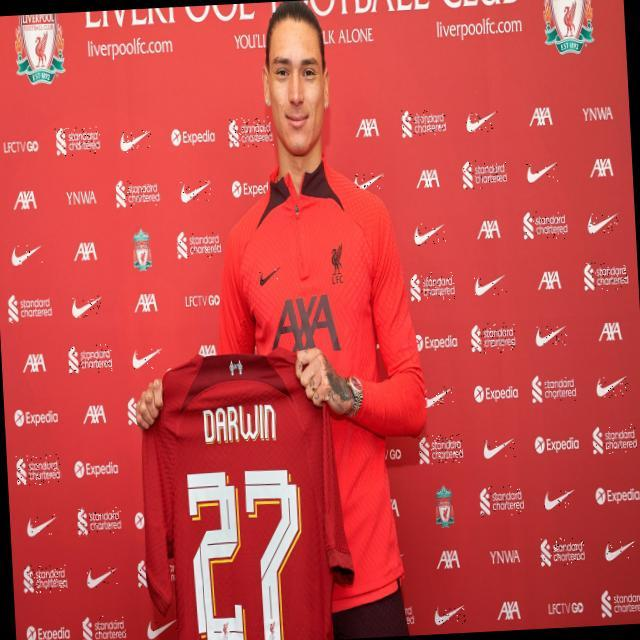Nike: (120, 129, 152, 154), (596, 376, 629, 400), (180, 180, 212, 204), (413, 223, 446, 246), (474, 274, 507, 297), (466, 110, 499, 133), (27, 515, 58, 539), (132, 347, 164, 370), (146, 618, 179, 640), (483, 438, 516, 460), (526, 161, 559, 183), (535, 325, 568, 347), (543, 489, 576, 511), (604, 540, 637, 562), (587, 212, 620, 234), (87, 567, 118, 590), (11, 244, 43, 266), (434, 604, 466, 626), (72, 295, 102, 318), (425, 387, 455, 408), (354, 173, 385, 191), (259, 266, 281, 287)
Standard Chartered: (228, 117, 274, 149), (479, 485, 525, 517), (470, 322, 516, 354), (462, 158, 508, 190), (531, 373, 577, 405), (17, 454, 62, 486), (8, 292, 53, 324), (176, 229, 222, 260), (401, 107, 447, 138), (410, 271, 456, 302), (419, 434, 465, 465), (523, 210, 569, 241), (540, 537, 586, 568), (592, 424, 638, 455), (583, 261, 629, 292), (55, 127, 101, 157), (68, 344, 113, 374), (77, 507, 122, 537), (23, 564, 68, 594), (116, 179, 161, 209), (600, 588, 640, 618), (83, 614, 128, 640), (127, 396, 141, 427), (138, 560, 147, 588)
